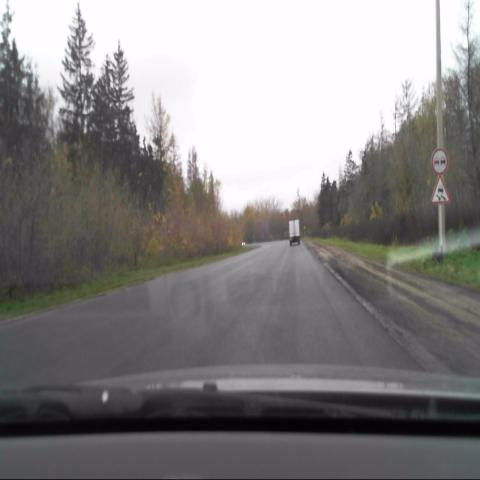1_15: (430, 175, 450, 203)
